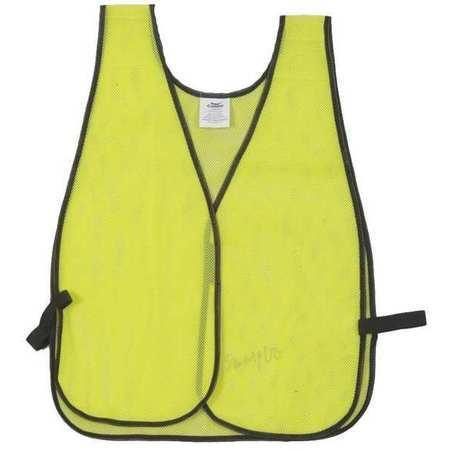vest: (44, 1, 379, 442)
